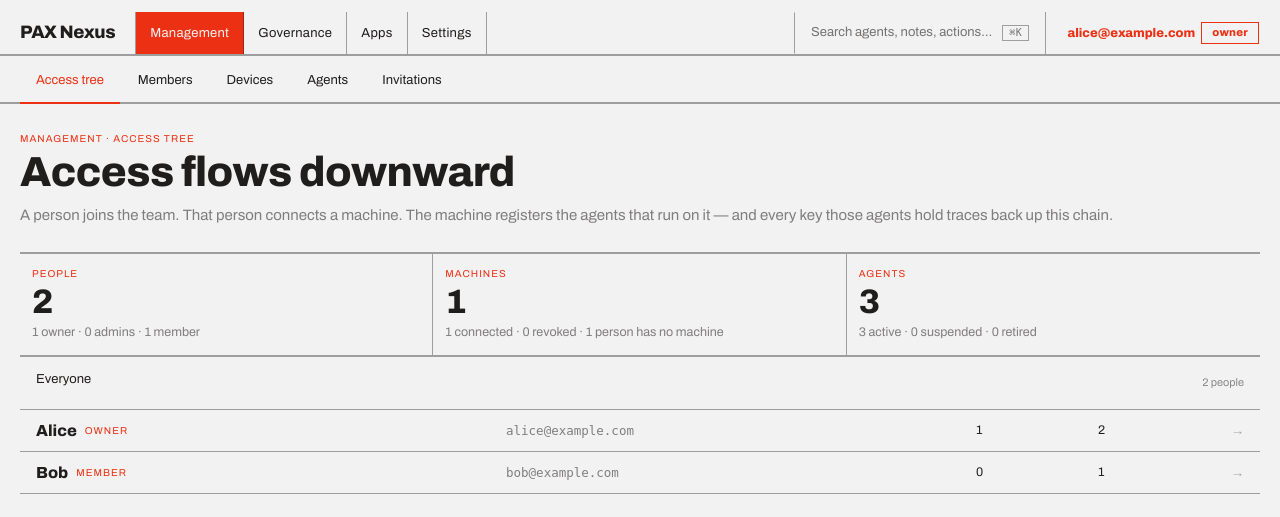
it: Access tree · people level › drills into a person by writing the query parameter
Click the text "Alice" at [56, 430], box [36,422,77,439]
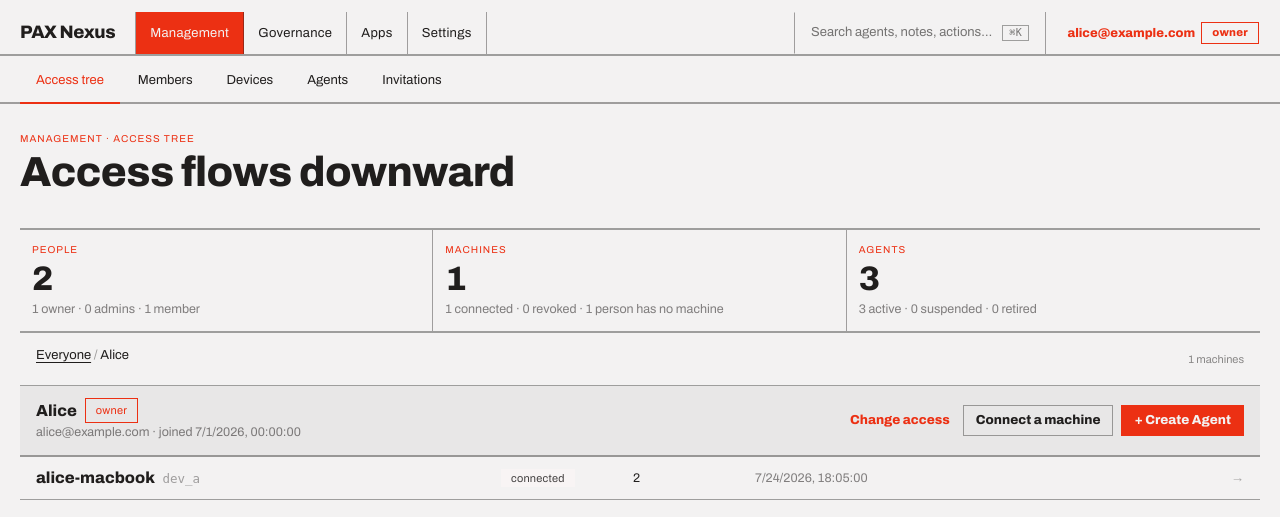
Result: the text "alice-macbook" is shown at [36,469,155,486]
